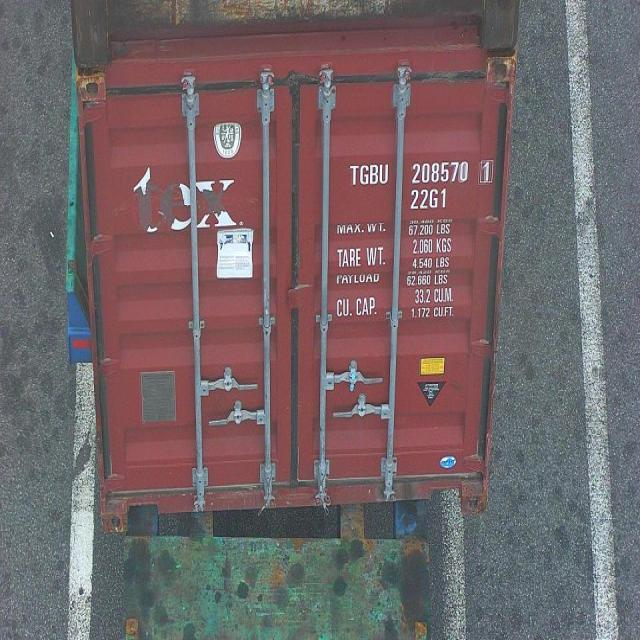ISO: (411, 190, 448, 210)
container_number: (347, 152, 496, 188)
